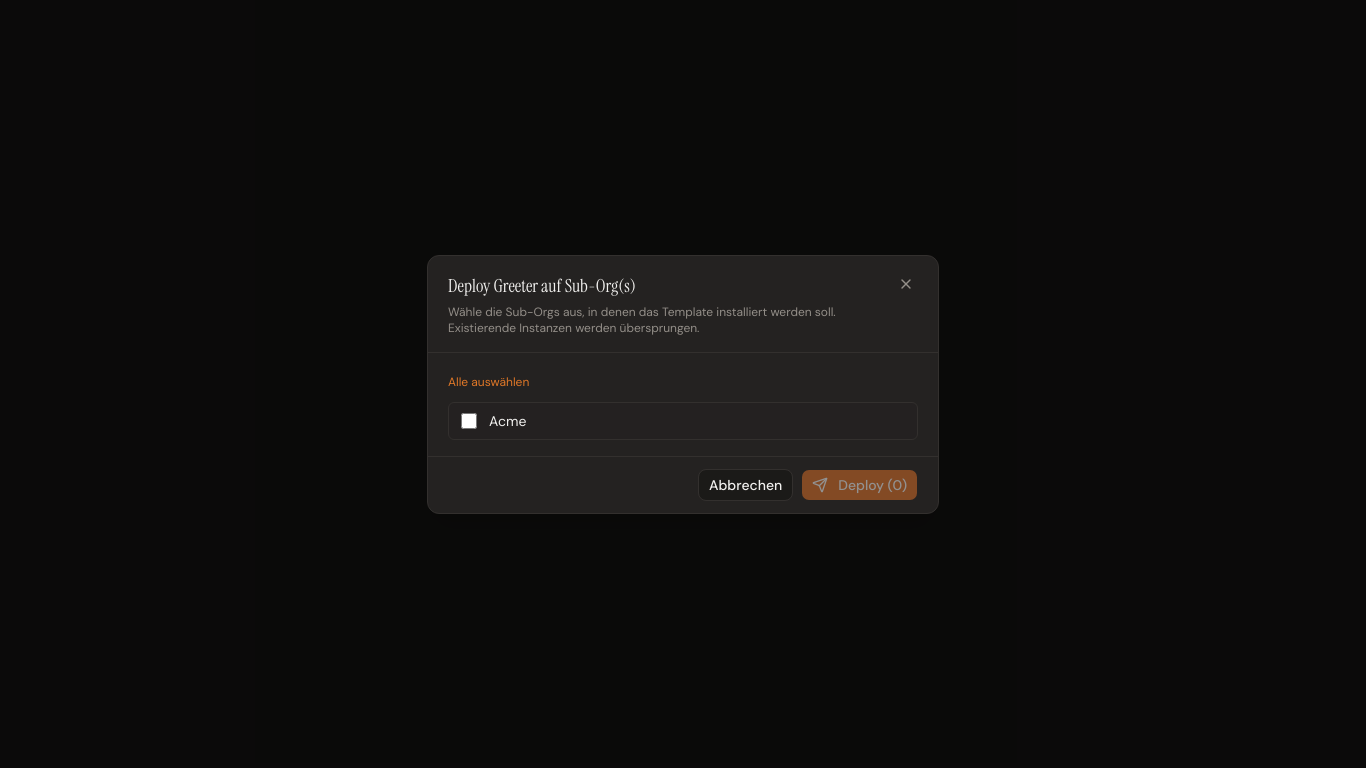
Test: TemplateDeployModal › Deploy button is disabled until something is selected
Expected: the button with test id "template-deploy-modal-submit" is disabled, x1=801 y1=468 x2=918 y2=500
Click the label with test id "template-deploy-modal-row-sub_1".
click(508, 420)  # box x1=448 y1=402 x2=918 y2=440
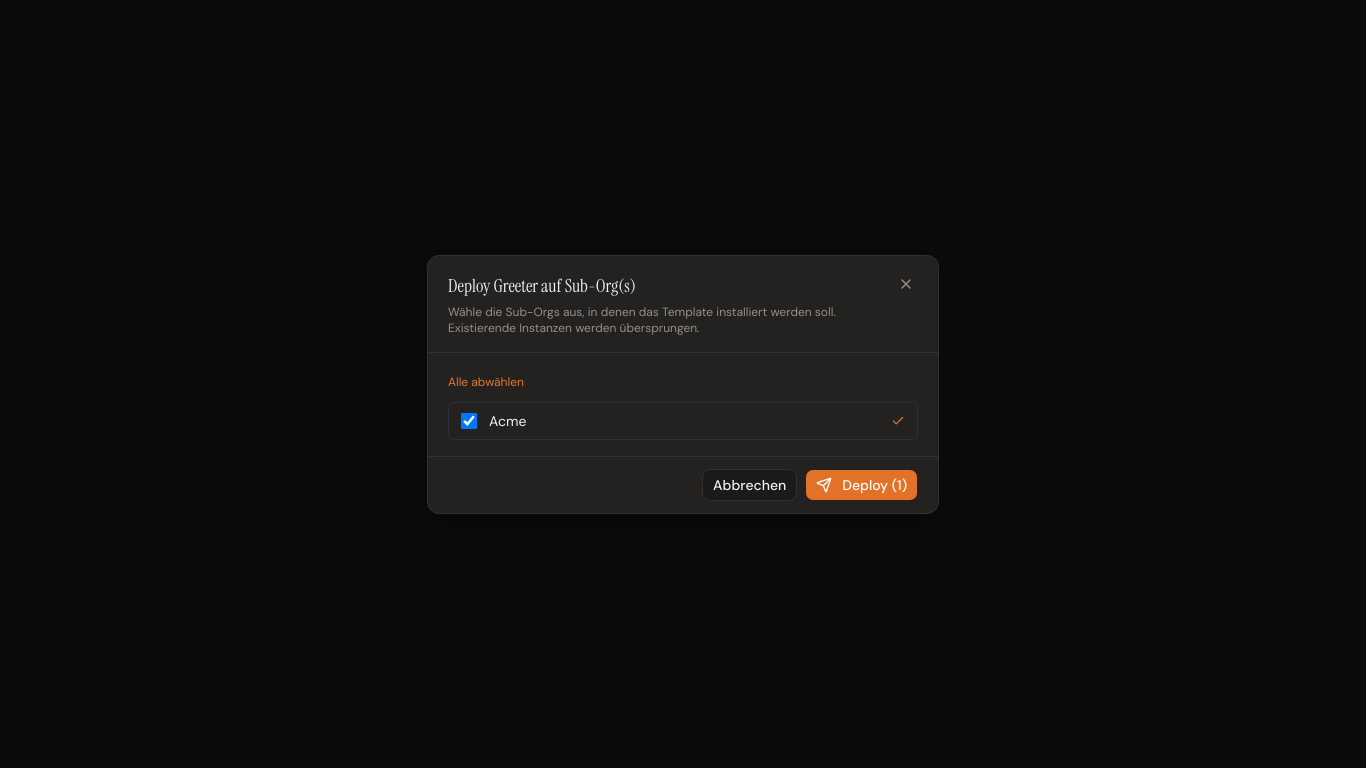
Result: the button with test id "template-deploy-modal-submit" is enabled at x1=805 y1=468 x2=918 y2=500
